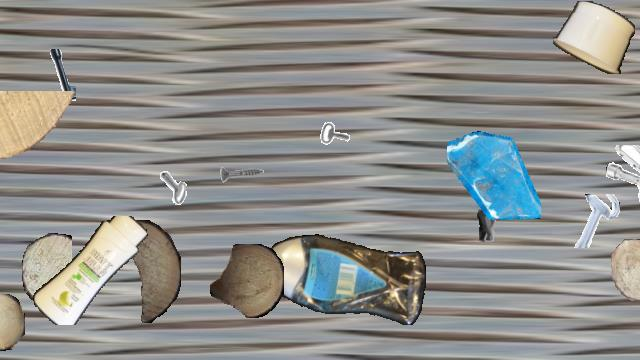glass: (447, 130, 541, 224)
metal: (18, 49, 76, 107), (568, 194, 622, 248), (159, 152, 213, 206), (462, 202, 512, 252), (218, 152, 264, 198), (606, 145, 640, 207), (320, 108, 360, 148)
plastic: (265, 233, 425, 329), (30, 216, 152, 324), (553, 1, 635, 73)
wood: (109, 220, 181, 322), (210, 244, 284, 318), (0, 91, 79, 159), (22, 233, 72, 305), (611, 239, 640, 301), (0, 294, 24, 350)
